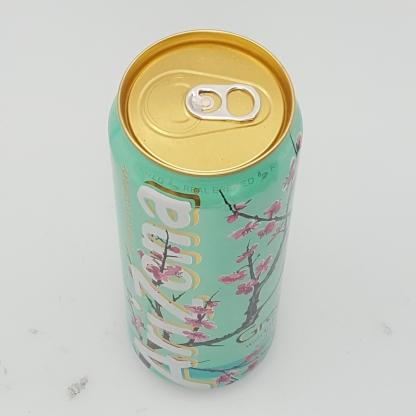-------------------680ML: (108, 29, 302, 390)
